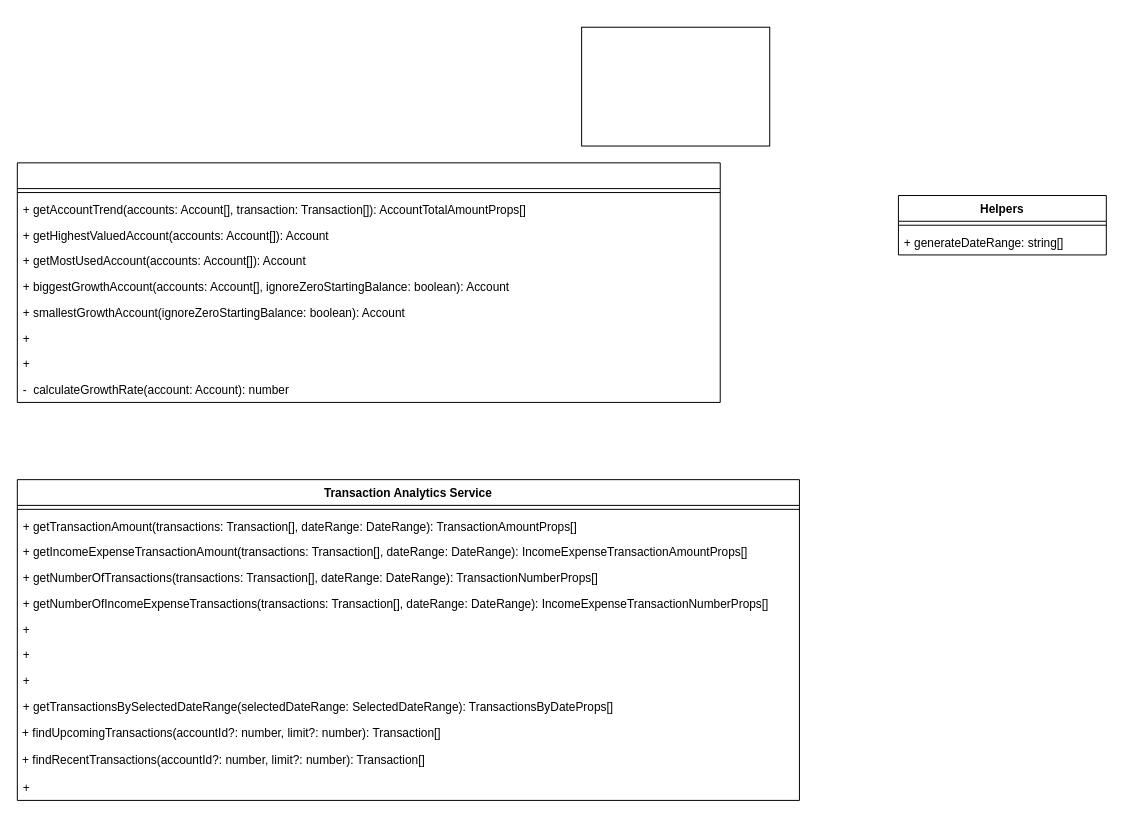
Some shapes in this 1124 by 821 pixel diagram are drawn without their labels. The box of each missing label's shape, as (x1, y1, x2, y2) in pixels:
Account Analytics Service: (16, 162, 720, 402)
Note Analysis Modules assume you have the data to analyze passed as props: (581, 26, 770, 146)
